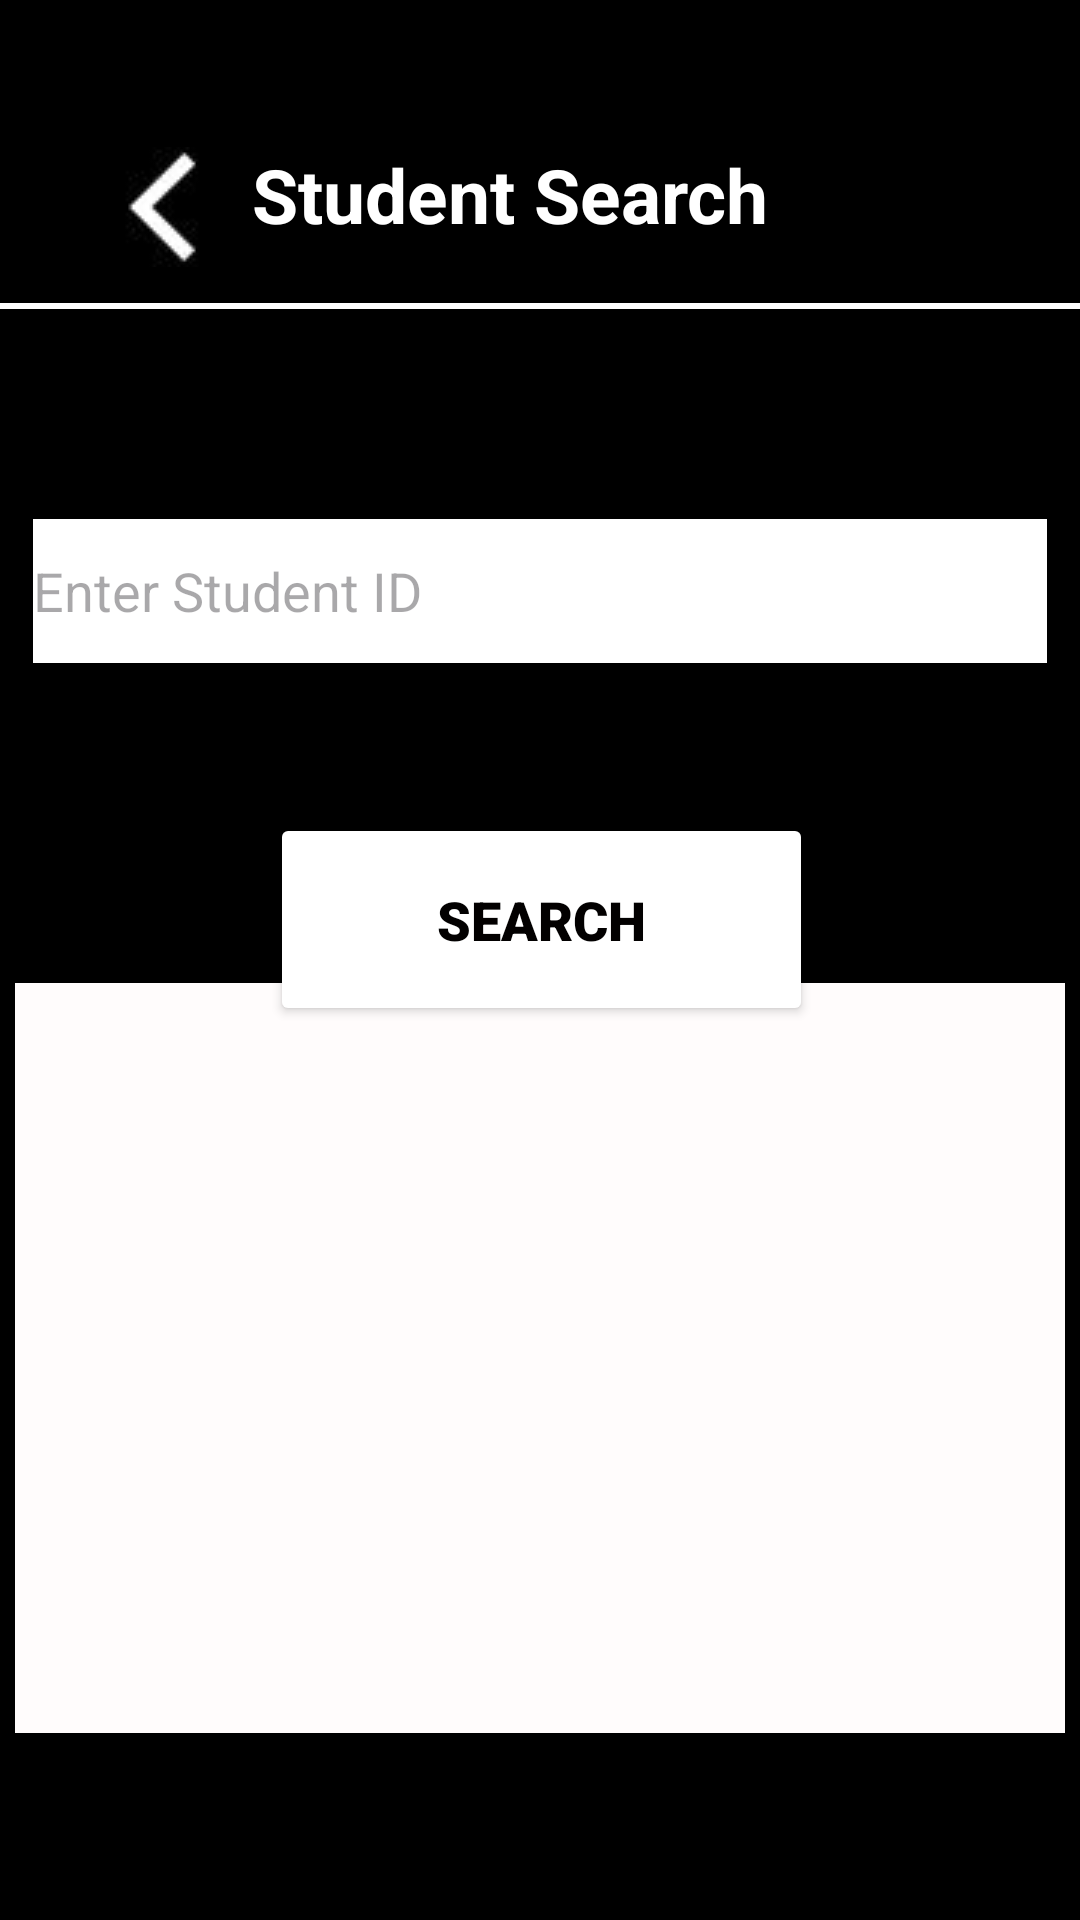

Screen size 1080 x 1920. Icon name, then its center in pixels as [x,y]:
back: [162,207]
